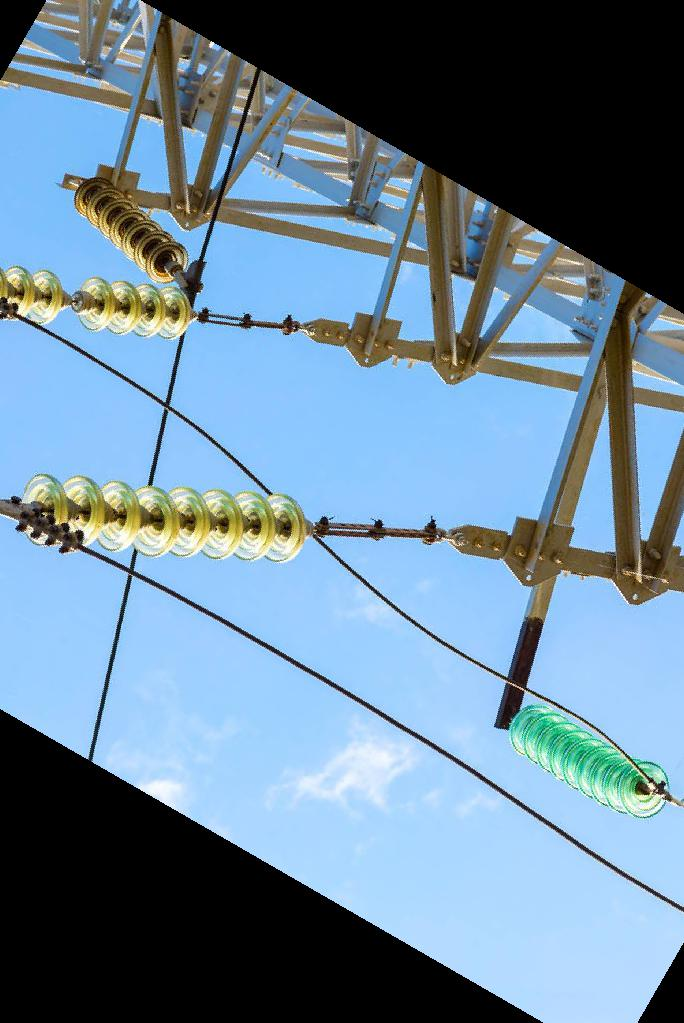insulator: (19, 469, 312, 568), (502, 699, 676, 824), (1, 260, 197, 346), (66, 173, 194, 285)
insulator_stringdrop: (27, 266, 116, 335)
